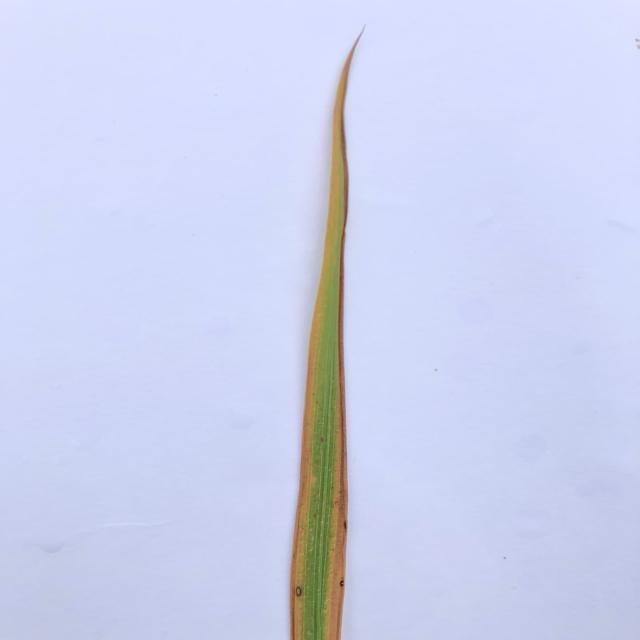Rice Tungro: (287, 358, 313, 639), (325, 357, 347, 639)
